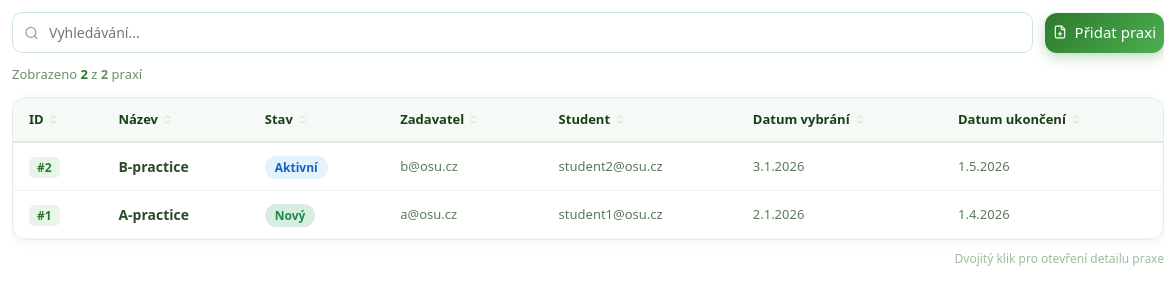
SummaryOfPracticesView › filters rows by search query
Type "A-practice" into the field with placeholder "Vyhledávání..." at (522, 32), box [12,12,1033,53]
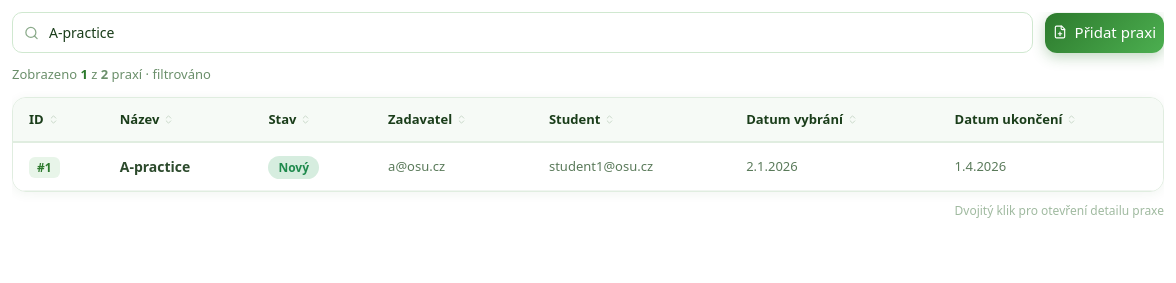
Expected: the text "A-practice" is shown, [104,142,252,190]
Expected: the text "B-practice" is gone
